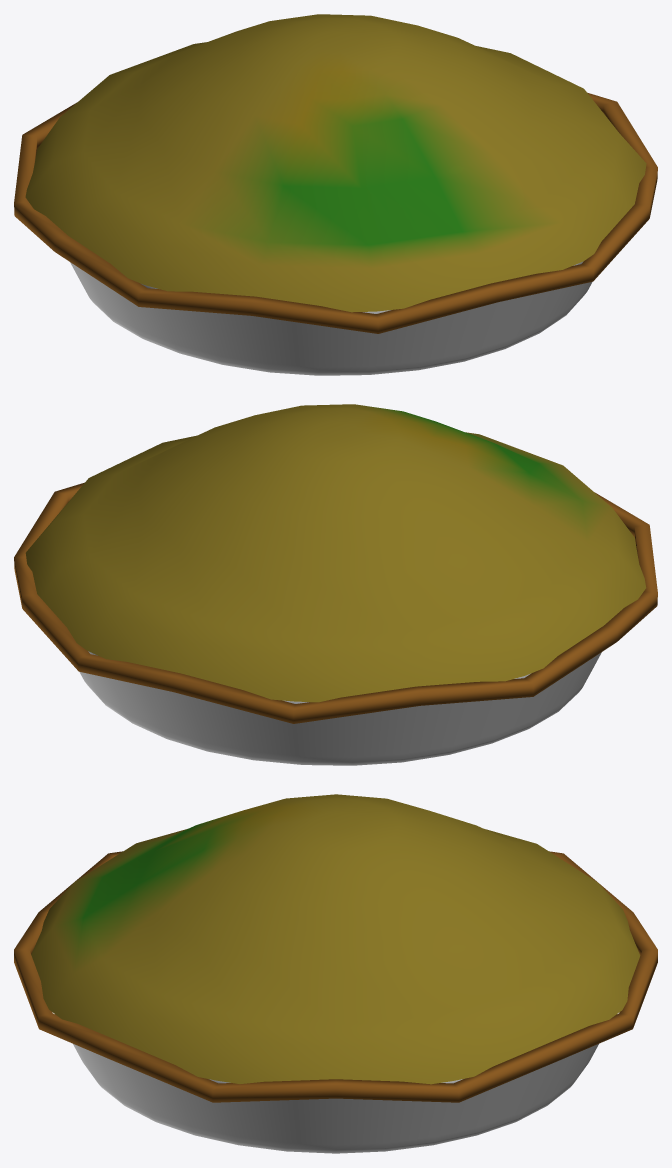
File: Pie.fbx
3 renders of one model, top to bottom at view 1: azimuth 30°, elevation 25°; view 2: azimuth 150°, elevation 25°; view 3: azimuth 270°, elevation 25°, orthographic.
Parts seen in each view (by area): view 1: Pie; view 2: Pie; view 3: Pie.
Part boxes in pixels (left/top/right/bottom): Pie: left=14, top=14, right=657, bottom=375; Pie: left=14, top=404, right=657, bottom=765; Pie: left=14, top=794, right=657, bottom=1153.
Bounding box in the file's own units: 50 × 19.89 × 50.
